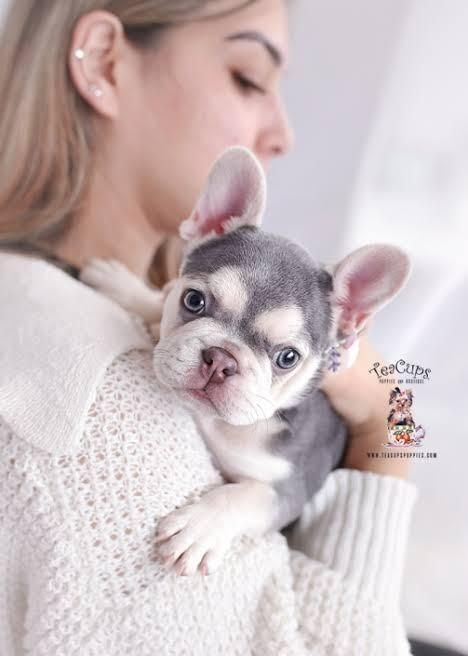non-dog: (0, 0, 413, 649)
puppy-dog: (86, 146, 414, 574)
